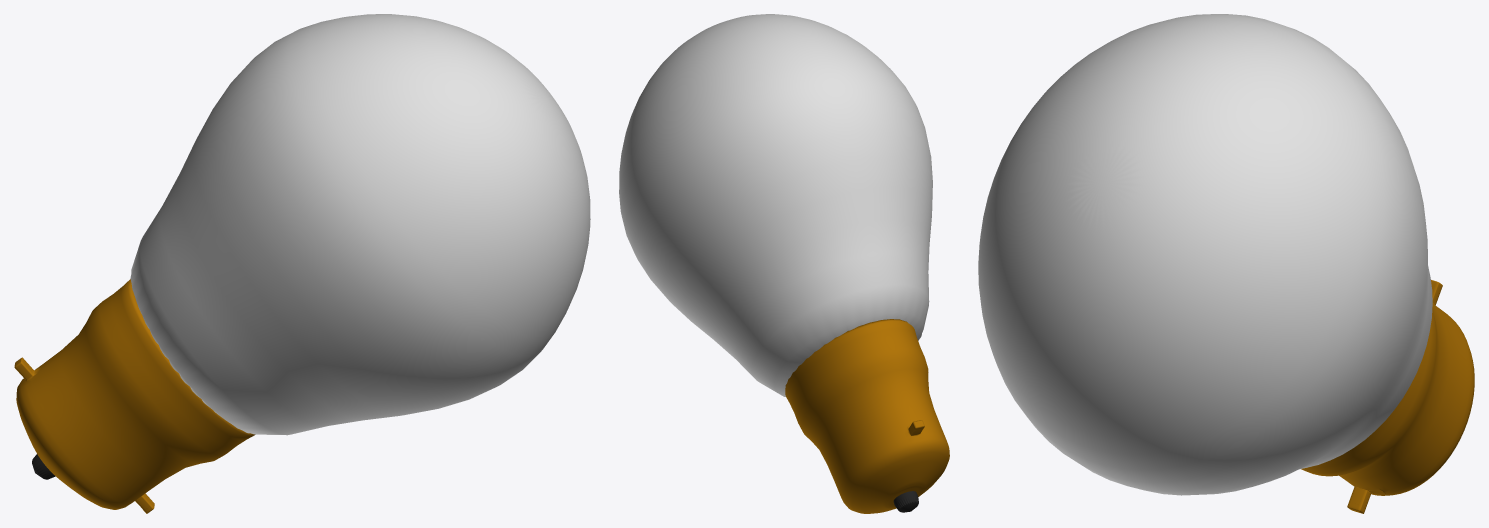
The model's file is newbulb.fbx.
3 views of the same model, side by side, from view 1: azimuth 30°, elevation 25°; view 2: azimuth 150°, elevation 25°; view 3: azimuth 270°, elevation 25° (orthographic). The views are drawn at different scales.
Parts seen in each view (by area): view 1: bulb_upper, bulb_lower; view 2: bulb_upper, bulb_lower, Cylinder.001; view 3: bulb_upper, bulb_lower.
Boxes of the visible parts, x1,y1,x2,y2 form: bulb_upper: [130, 14, 590, 435]; bulb_lower: [14, 279, 255, 513]; bulb_upper: [619, 14, 932, 396]; bulb_lower: [785, 319, 949, 513]; Cylinder.001: [893, 491, 918, 512]; bulb_upper: [978, 14, 1432, 495]; bulb_lower: [1301, 280, 1474, 513].
Bounding box in the file's own units: 227 × 233 × 183.
